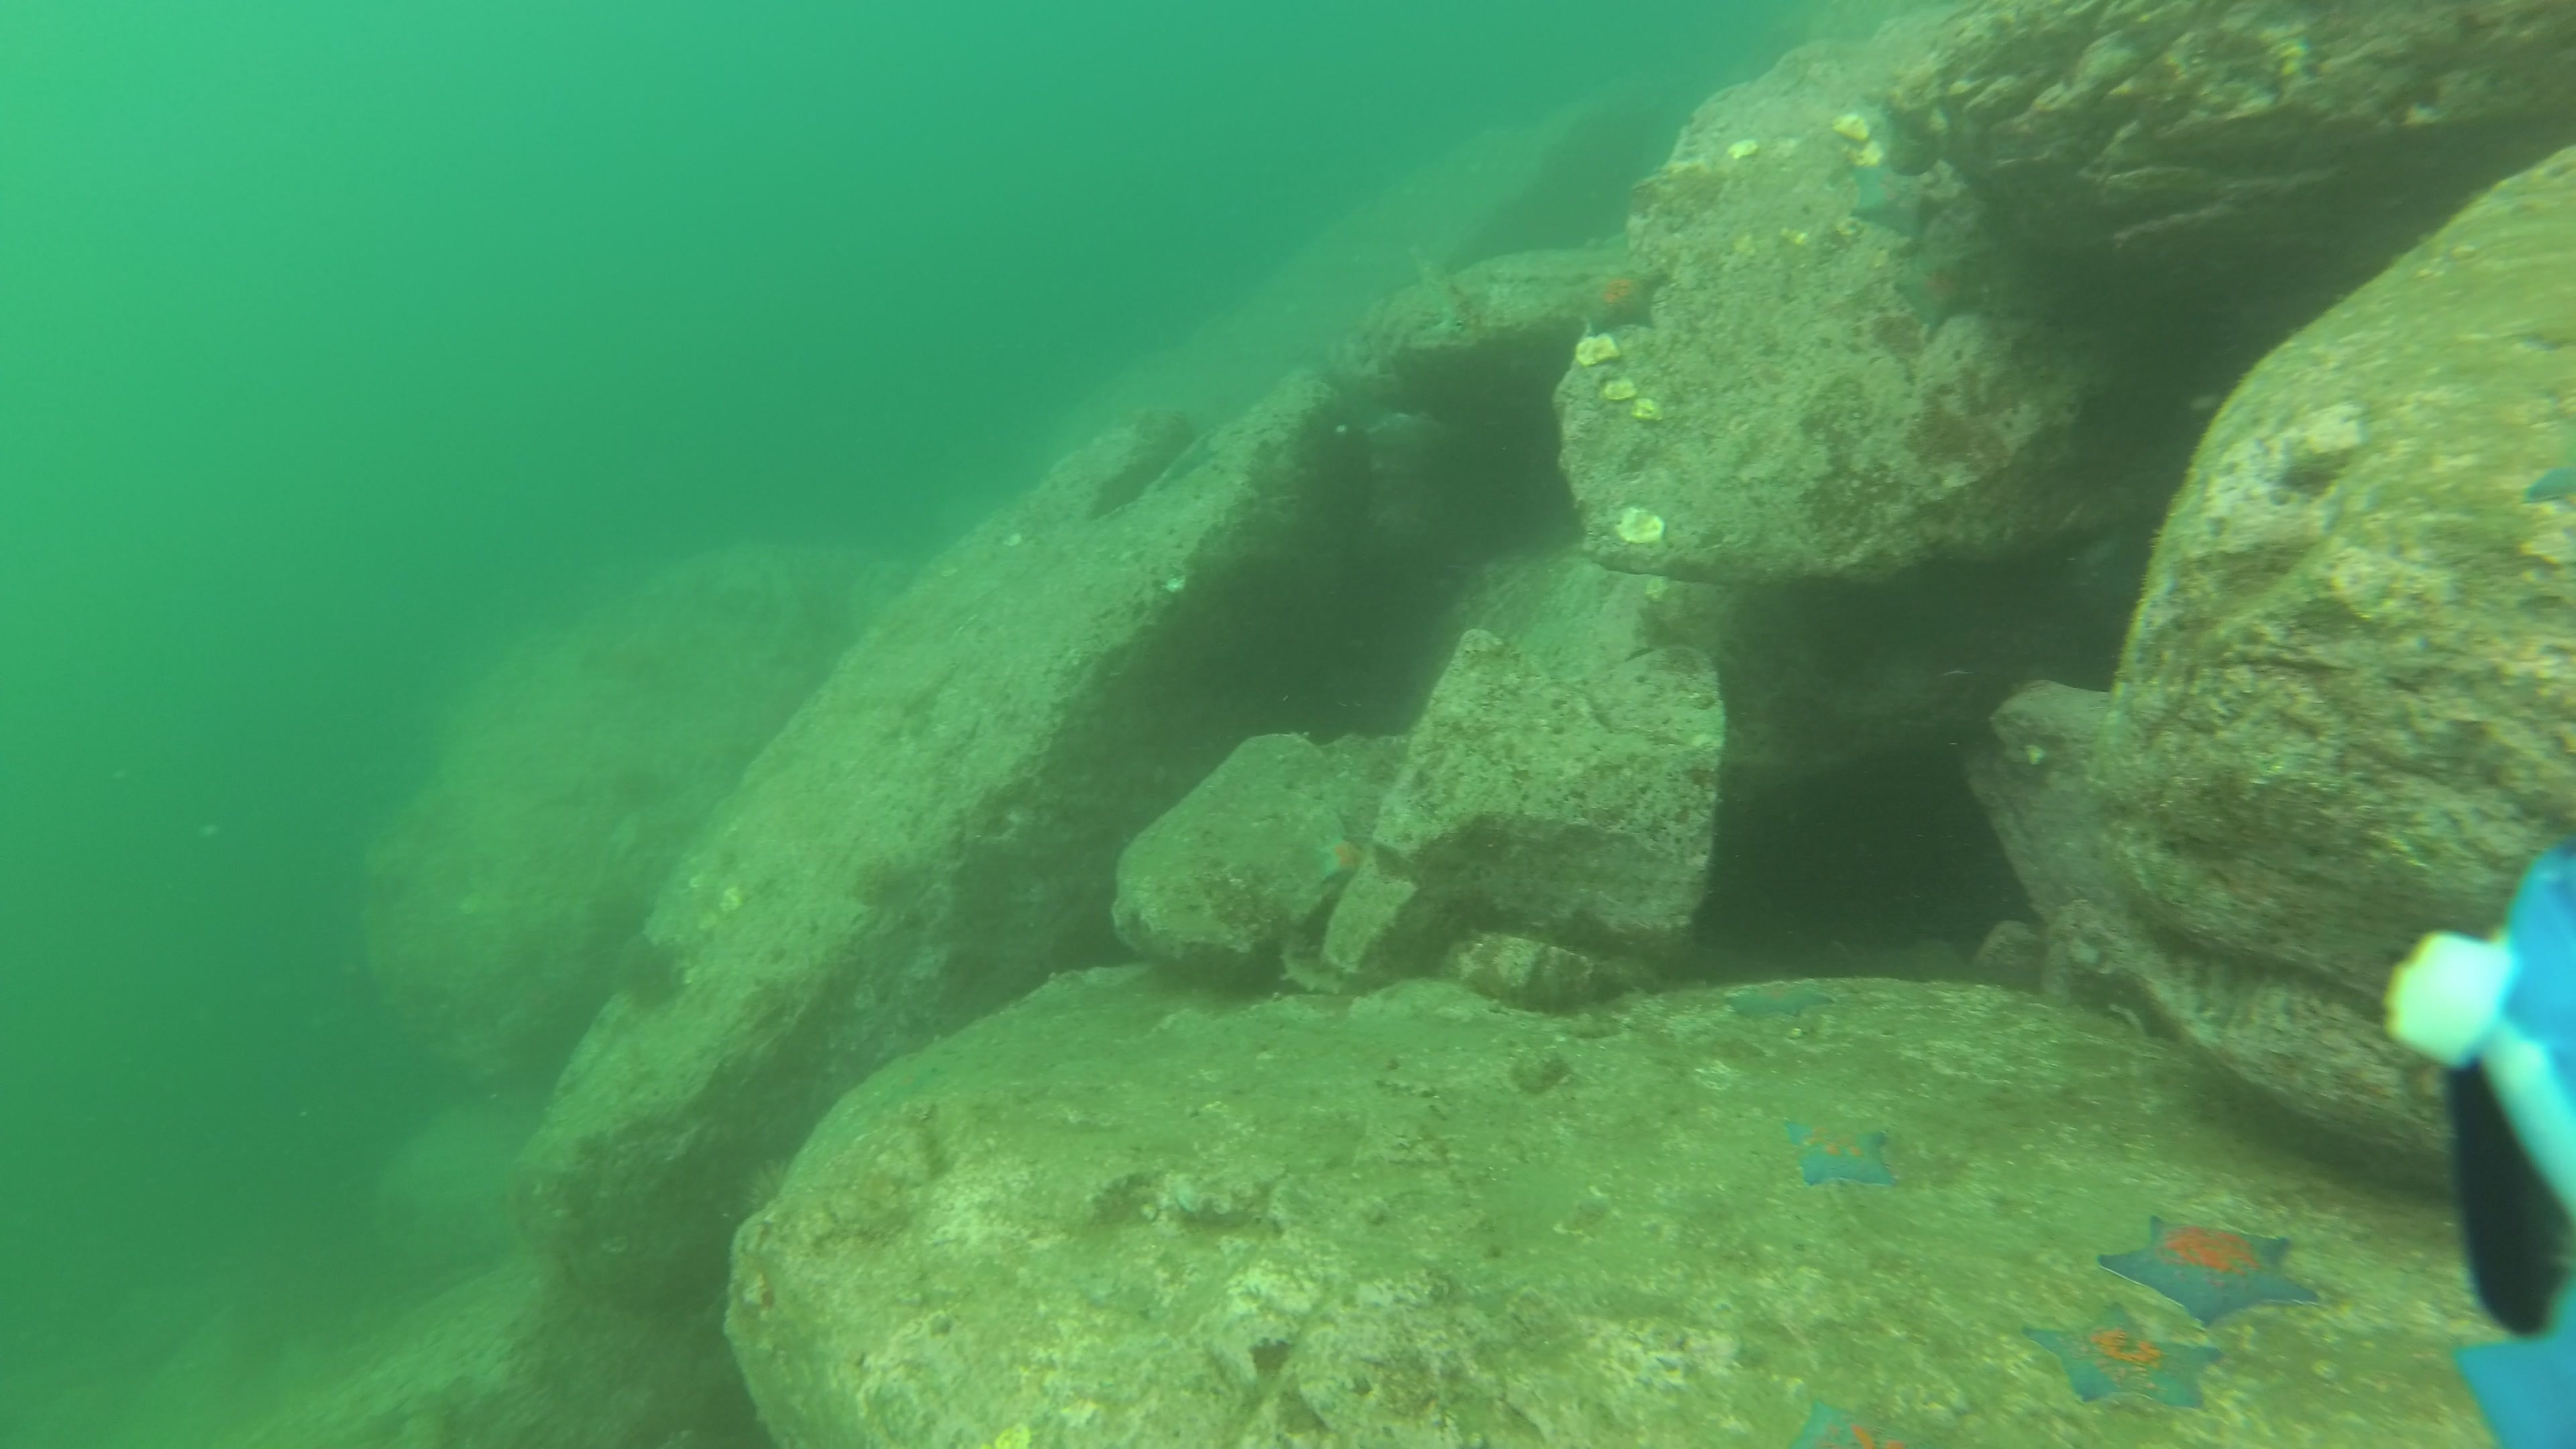holothurian: (1251, 909, 1382, 1008)
starfish: (2091, 1214, 2323, 1332), (2020, 1293, 2229, 1414), (1778, 1113, 1902, 1191), (1891, 230, 1985, 333), (1844, 156, 1936, 244), (1571, 262, 1672, 336), (1790, 1392, 1907, 1449), (1718, 975, 1840, 1024), (1152, 430, 1221, 499), (1313, 832, 1368, 886)
